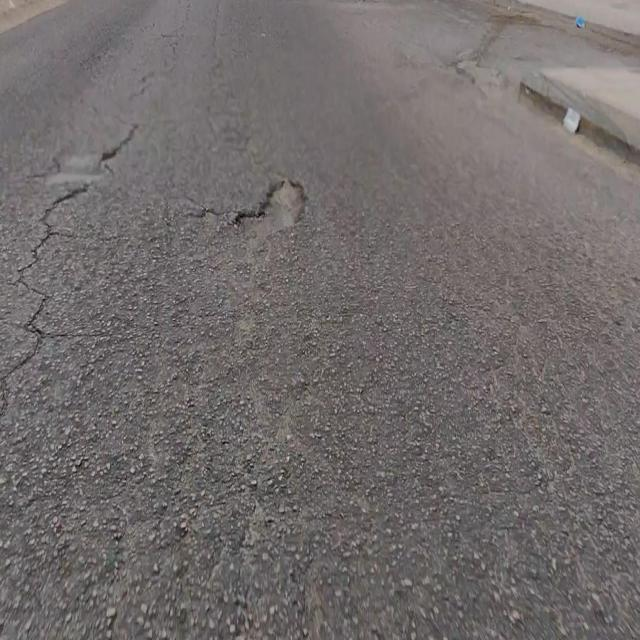Potholes: (230, 176, 312, 247)
